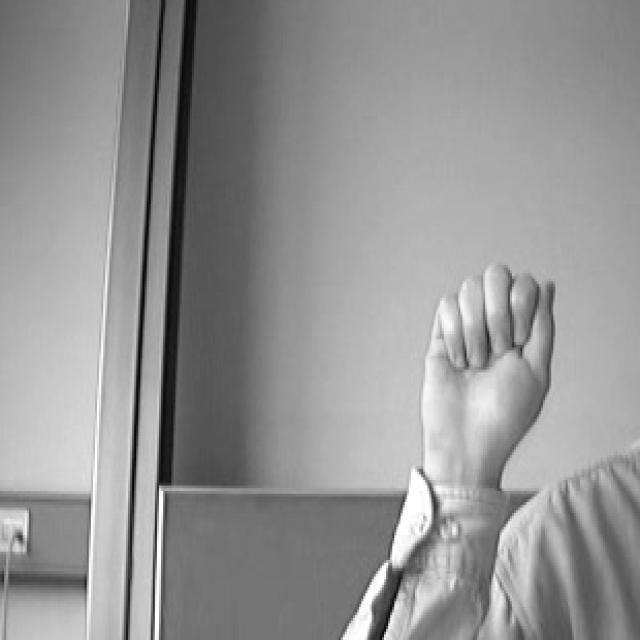A: (407, 255, 563, 471)
